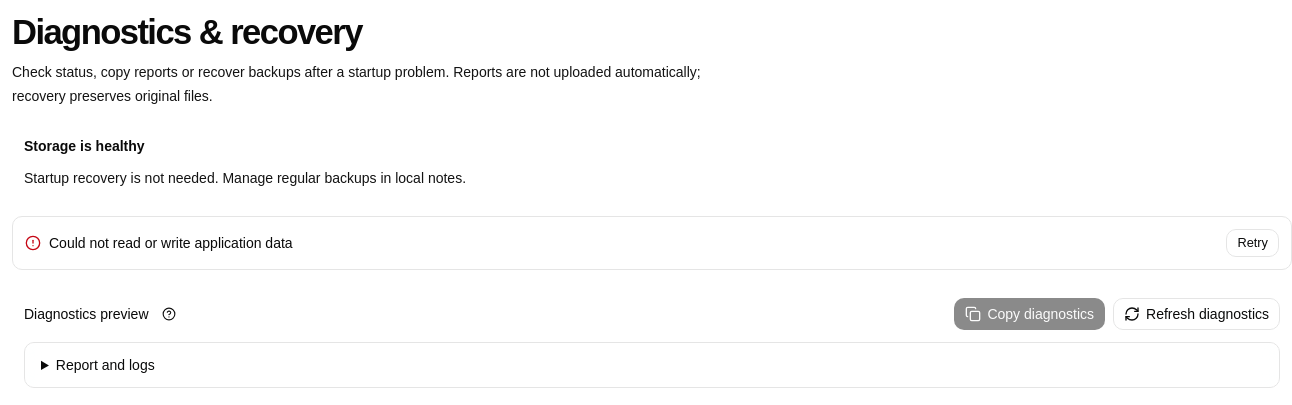
diagnostics actions › retries a failed diagnostics request before allowing a copy
Check: the message "Could not read or write application data Retry" is shown, box [12,216,1291,270]
Check: the button "Copy diagnostics" is disabled, box [954,298,1105,330]
Click the button "Retry" at (1253, 243), box [1226,229,1279,257]
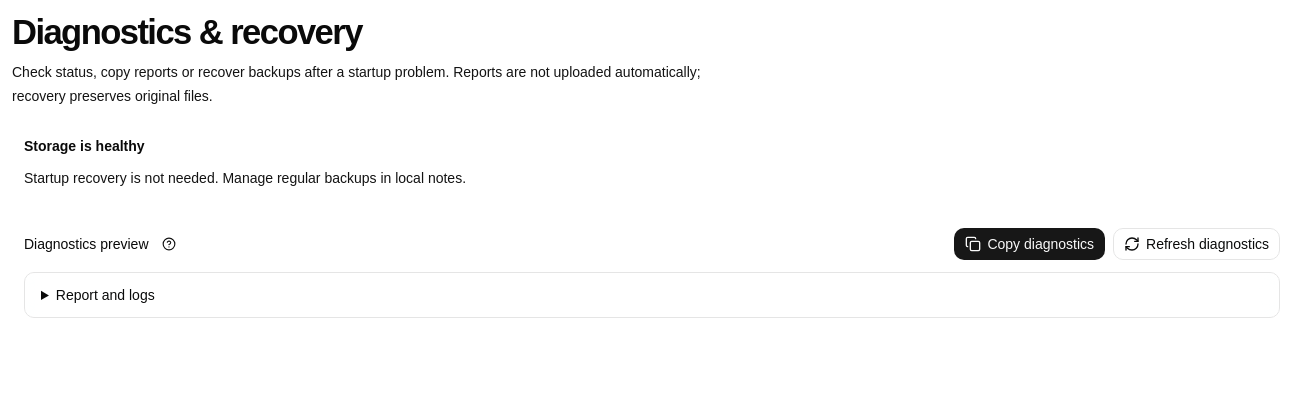
Check: the button "Copy diagnostics" is enabled, box [954,228,1105,260]
